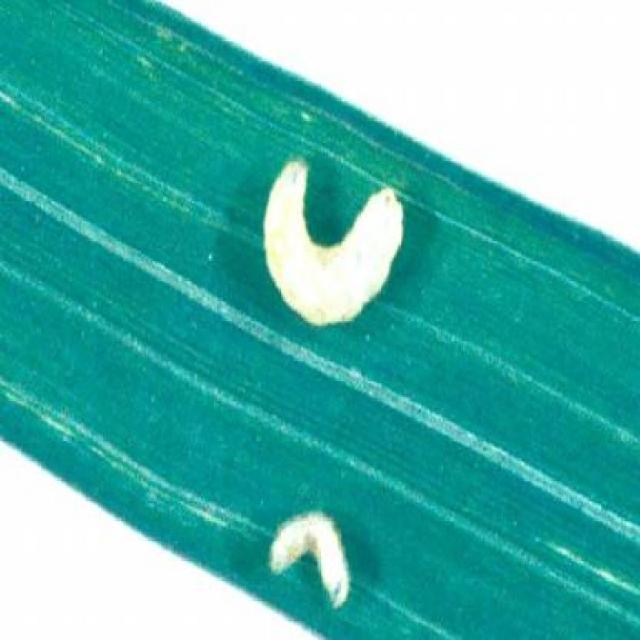whorl-maggot: (262, 151, 411, 329), (260, 504, 354, 622)
